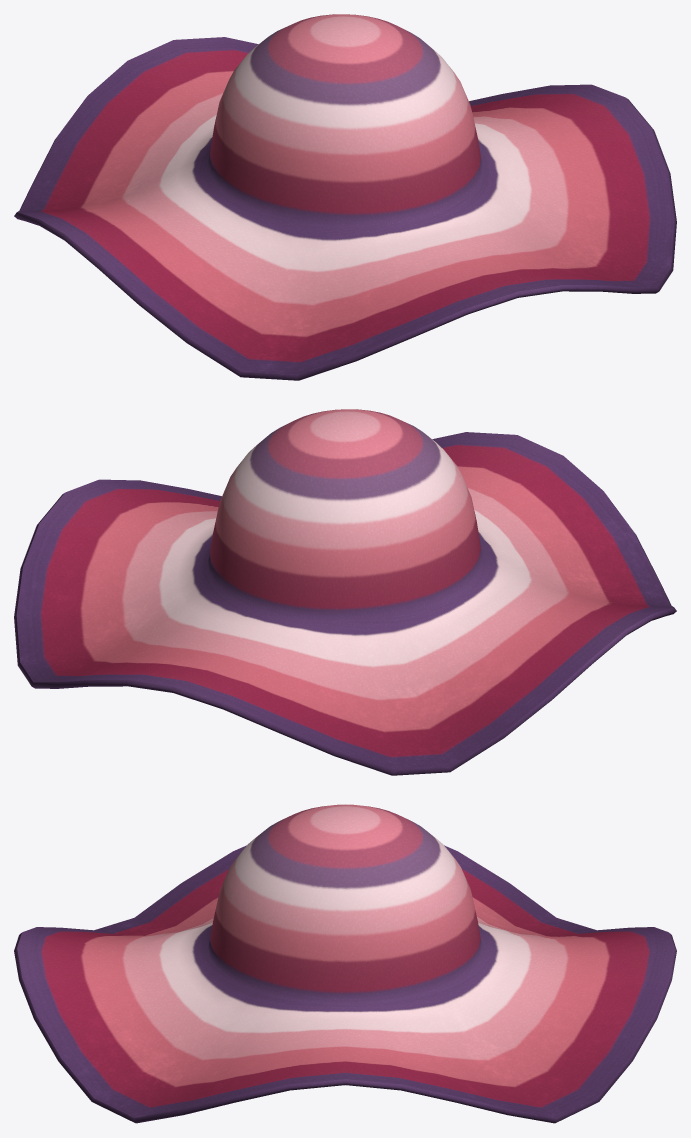
Rendered from WomenSummerHat.FBX.
3 renders of one model, top to bottom at view 1: azimuth 30°, elevation 25°; view 2: azimuth 150°, elevation 25°; view 3: azimuth 270°, elevation 25°, orthographic. The views are drawn at different scales.
Visible parts, largest first — view 1: WomanSummerHat; view 2: WomanSummerHat; view 3: WomanSummerHat.
Boxes of the visible parts, bbox=[...] form: WomanSummerHat: bbox=[14, 14, 676, 380]; WomanSummerHat: bbox=[14, 409, 676, 775]; WomanSummerHat: bbox=[14, 804, 676, 1123].
Bounding box in the file's own units: 83.19 × 30.54 × 88.3.
1 material, 1 textured.
